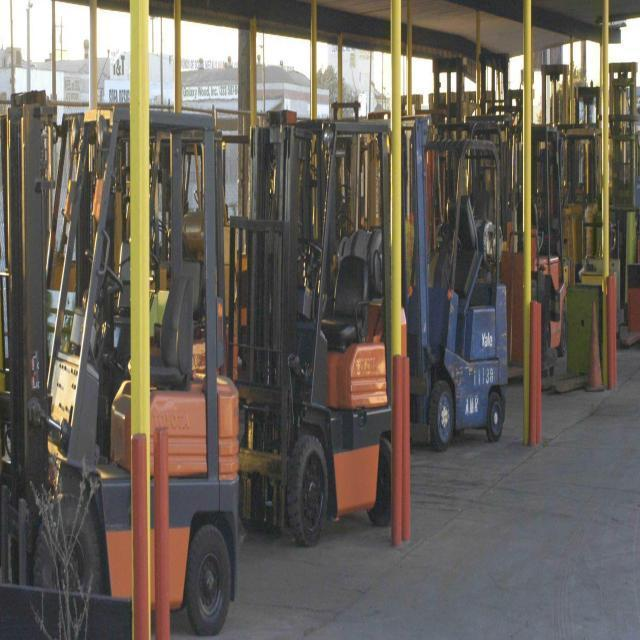forklift: (0, 97, 239, 634), (219, 105, 397, 550), (401, 115, 509, 440), (501, 125, 567, 374)
